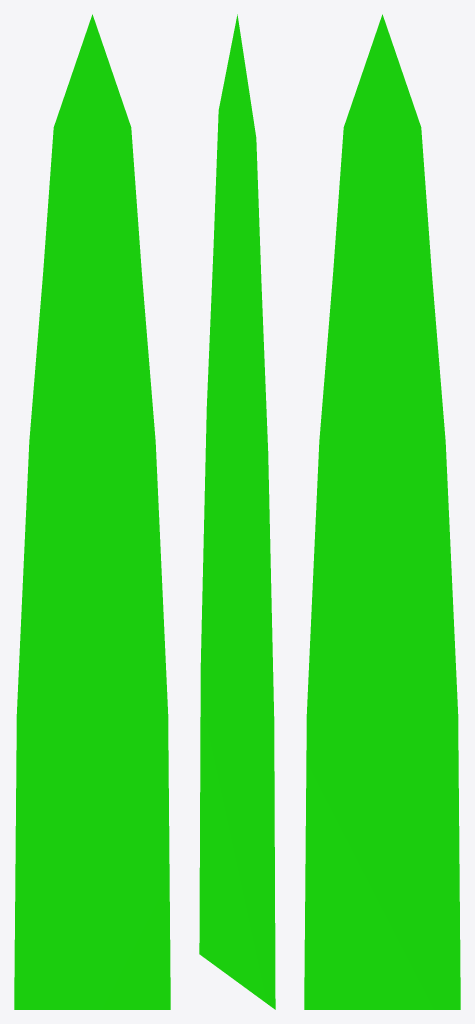
The model's file is grass_blade_normalsup_straight2.glb.
3 views of the same model, side by side, from view 1: azimuth 90°, elevation 25°; view 2: azimuth 210°, elevation 25°; view 3: azimuth 270°, elevation 25° (orthographic). The views are drawn at different scales.
Visible parts, largest first — view 1: Plane; view 2: Plane; view 3: Plane.
Boxes of the visible parts, x1,y1,x2,y2 form: Plane: (14, 14, 170, 1009); Plane: (199, 14, 275, 1009); Plane: (304, 14, 460, 1009).
Bounding box in the file's own units: 2.04e-08 × 1.43 × 0.2044.
